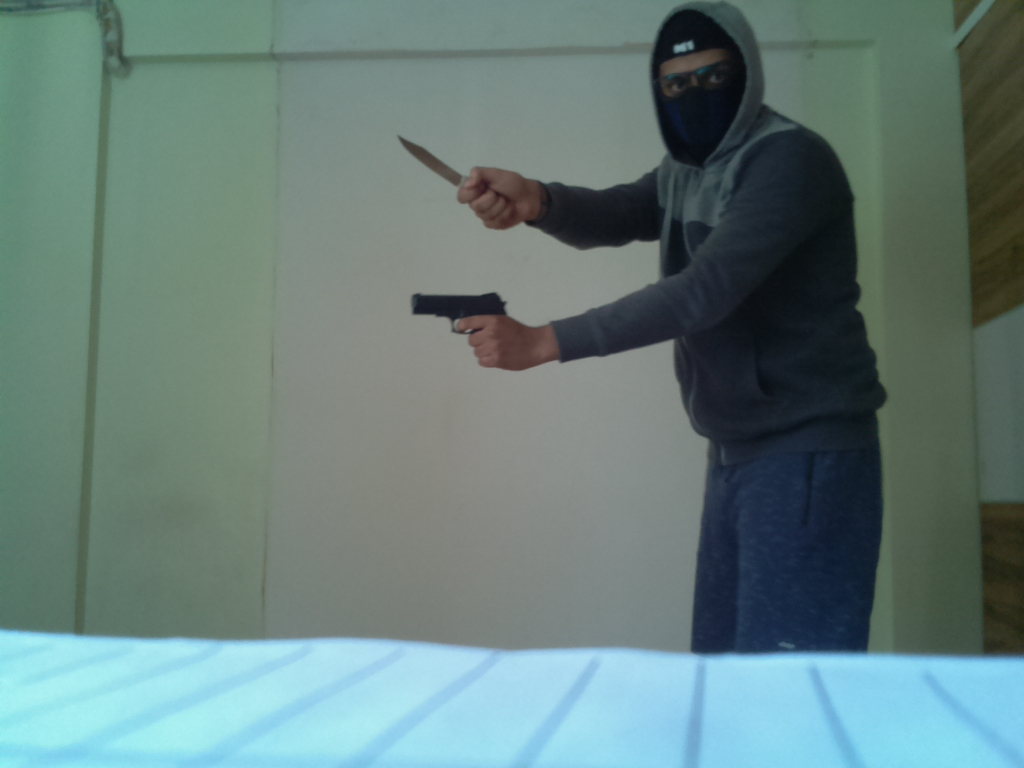gun: (407, 291, 511, 346)
knife: (392, 130, 498, 197)
